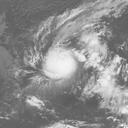cyclone: (40, 45, 82, 83)
